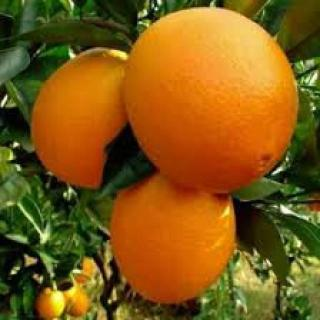orange: (115, 12, 300, 188), (104, 166, 264, 318)
